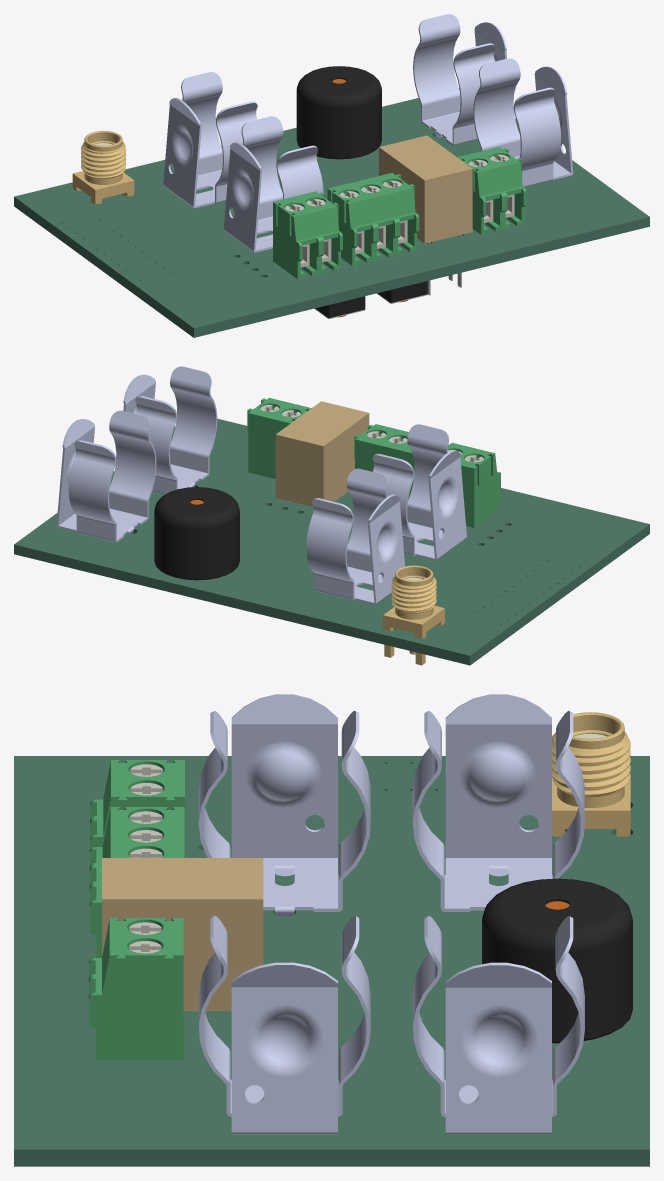
The model's file is PSRF_HP.glb.
The picture shows the model from 3 angles, top to bottom: view 1: azimuth 30°, elevation 25°; view 2: azimuth 150°, elevation 25°; view 3: azimuth 270°, elevation 25°; orthographic projection. The views are drawn at different scales.
Visible parts, largest first — view 1: =>[0:1:1:23], NAUO1 (×4), BZ1, K1, J3, J1, J5, J6, SW3, SW2; view 2: =>[0:1:1:23], NAUO1 (×4), BZ1, K1, J6, J1, J5, J3; view 3: =>[0:1:1:23], NAUO1 (×4), BZ1, K1, J5, J6, J3, J1.
Part boxes in pixels (bbox=[...]): =>[0:1:1:23]: bbox=[14, 88, 649, 337]; NAUO1 (×4): bbox=[163, 14, 573, 252]; BZ1: bbox=[296, 66, 381, 159]; K1: bbox=[379, 135, 472, 295]; J3: bbox=[327, 173, 419, 265]; J1: bbox=[273, 191, 342, 279]; J5: bbox=[457, 147, 526, 234]; J6: bbox=[72, 130, 134, 203]; SW3: bbox=[314, 296, 365, 318]; SW2: bbox=[377, 281, 427, 303]; =>[0:1:1:23]: bbox=[14, 418, 649, 665]; NAUO1 (×4): bbox=[56, 366, 466, 604]; BZ1: bbox=[154, 487, 239, 580]; K1: bbox=[275, 401, 369, 506]; J6: bbox=[383, 565, 444, 665]; J1: bbox=[447, 442, 500, 527]; J5: bbox=[247, 397, 311, 478]; J3: bbox=[354, 424, 414, 500]; =>[0:1:1:23]: bbox=[14, 756, 649, 1166]; NAUO1 (×4): bbox=[198, 694, 584, 1134]; BZ1: bbox=[482, 878, 632, 1043]; K1: bbox=[102, 858, 263, 1011]; J5: bbox=[88, 918, 183, 1060]; J6: bbox=[552, 712, 630, 836]; J3: bbox=[89, 807, 184, 957]; J1: bbox=[90, 760, 184, 857].
Size of the model in its own units: 0.074 by 0.0233 by 0.0505.
